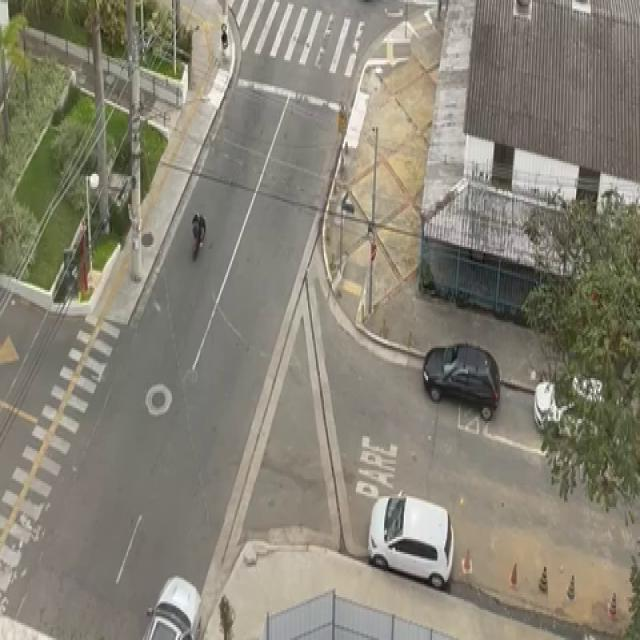car: (366, 482, 455, 604), (421, 335, 502, 430)
motorbike: (183, 201, 216, 269)
